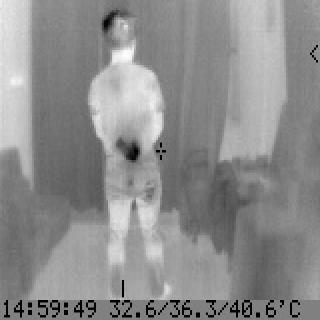Gun: (114, 132, 140, 190)
